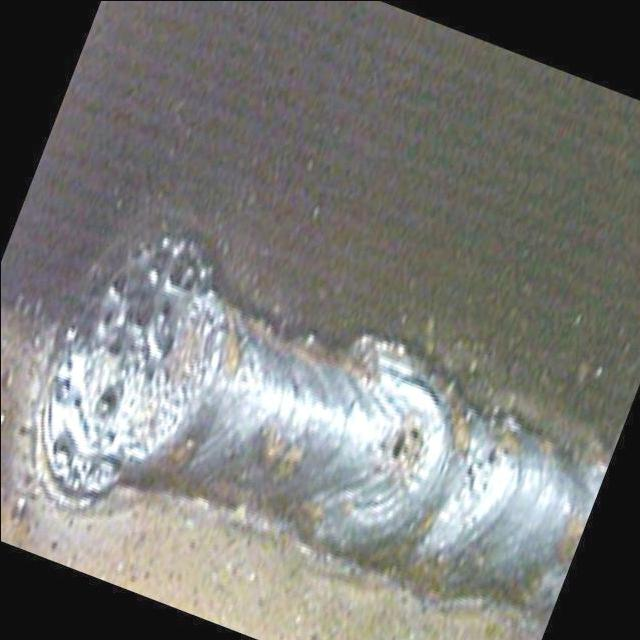defect: (79, 241, 207, 420), (454, 429, 506, 494), (380, 417, 424, 469)
